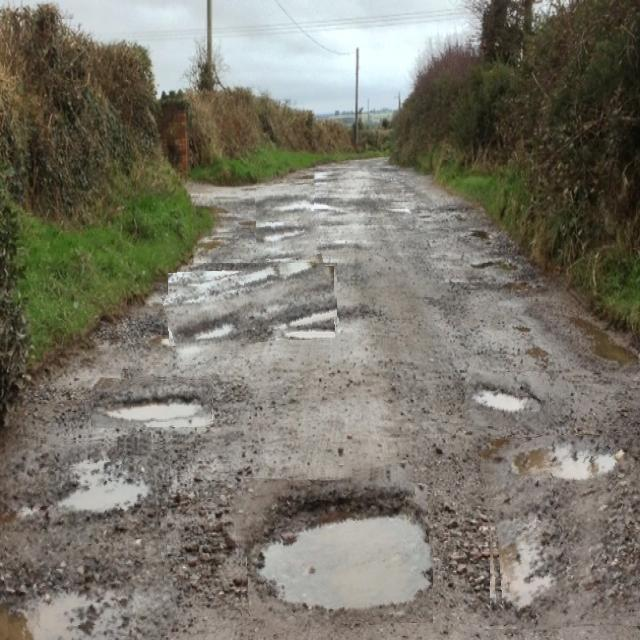Pothole: (0, 437, 171, 640), (235, 469, 433, 628), (484, 435, 640, 630), (165, 263, 337, 356), (91, 376, 214, 427), (465, 371, 551, 431), (256, 186, 315, 260)
